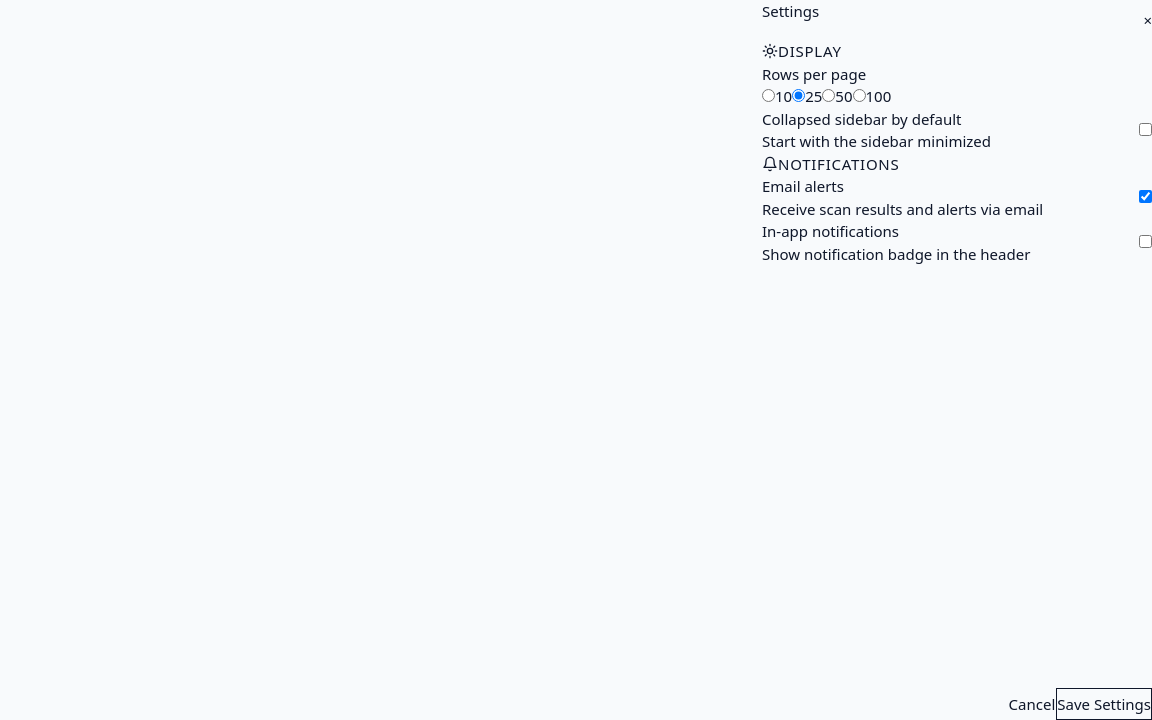
Test case: SettingsDrawer › saves drawer preferences without overwriting the header theme and reports the response upward
The image size is (1152, 720).
Click the radio button labelled "50".
click(829, 96)  # box left=822, top=89, right=835, bottom=102
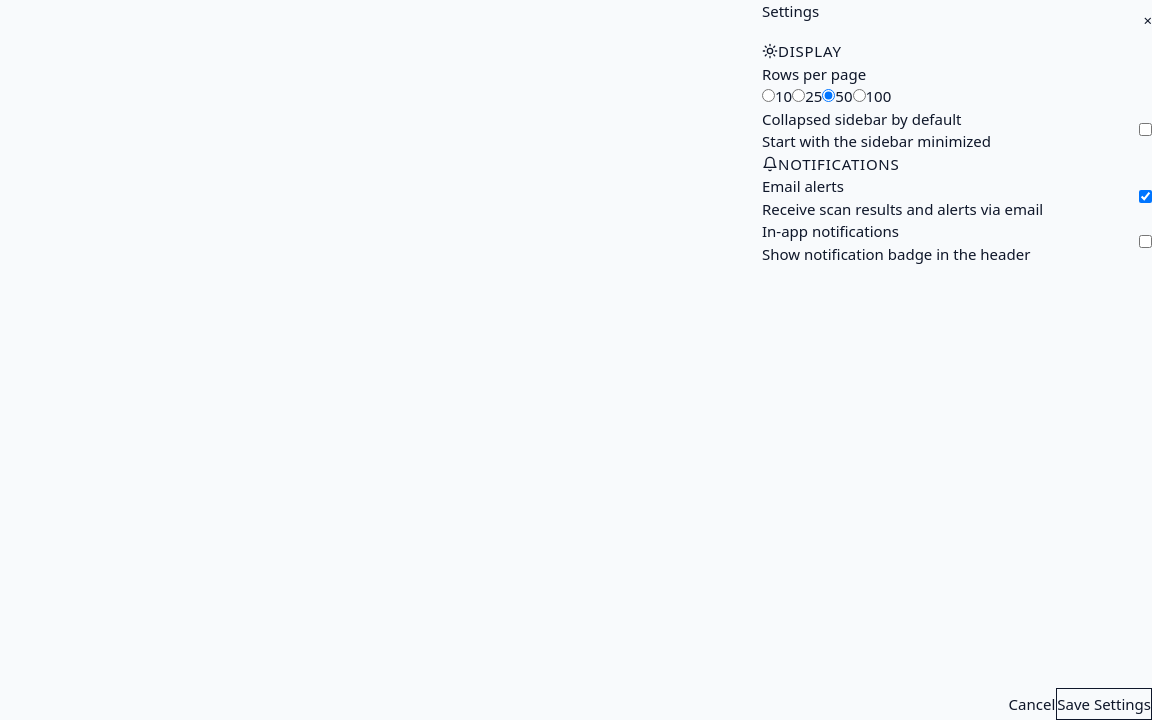
Click the button "Save Settings".
click(1104, 704)  # box left=1056, top=688, right=1151, bottom=719
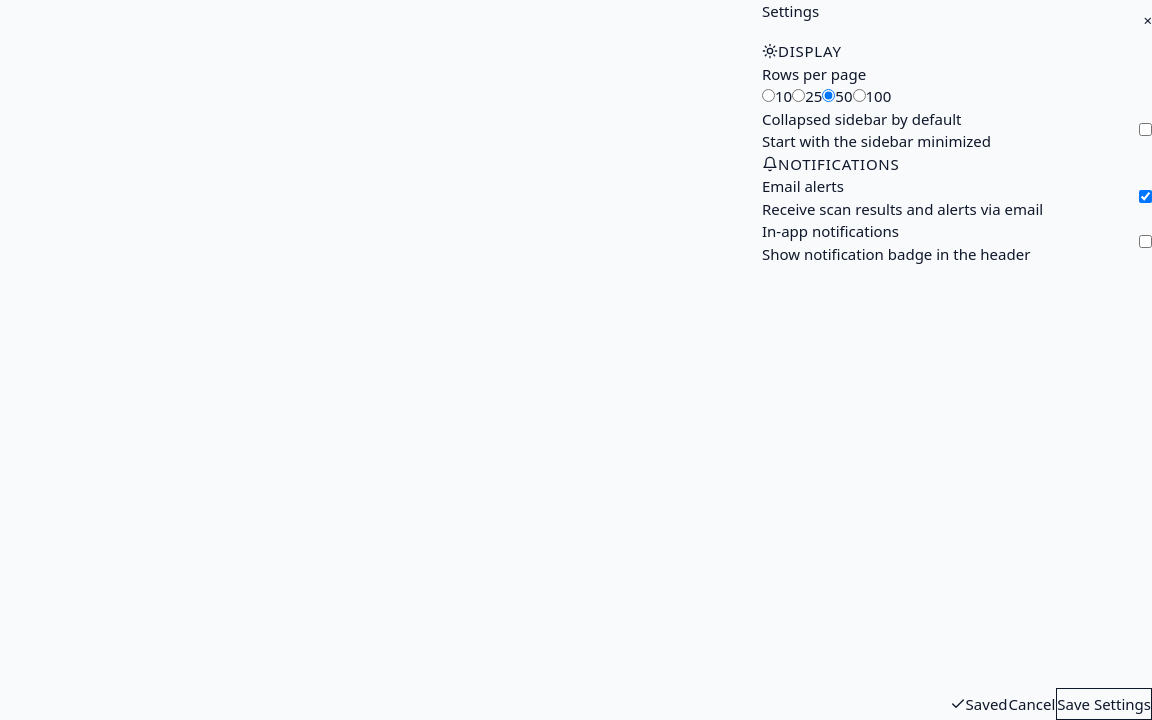
Expected: the text "Saved" is shown, left=950, top=693, right=1008, bottom=715
